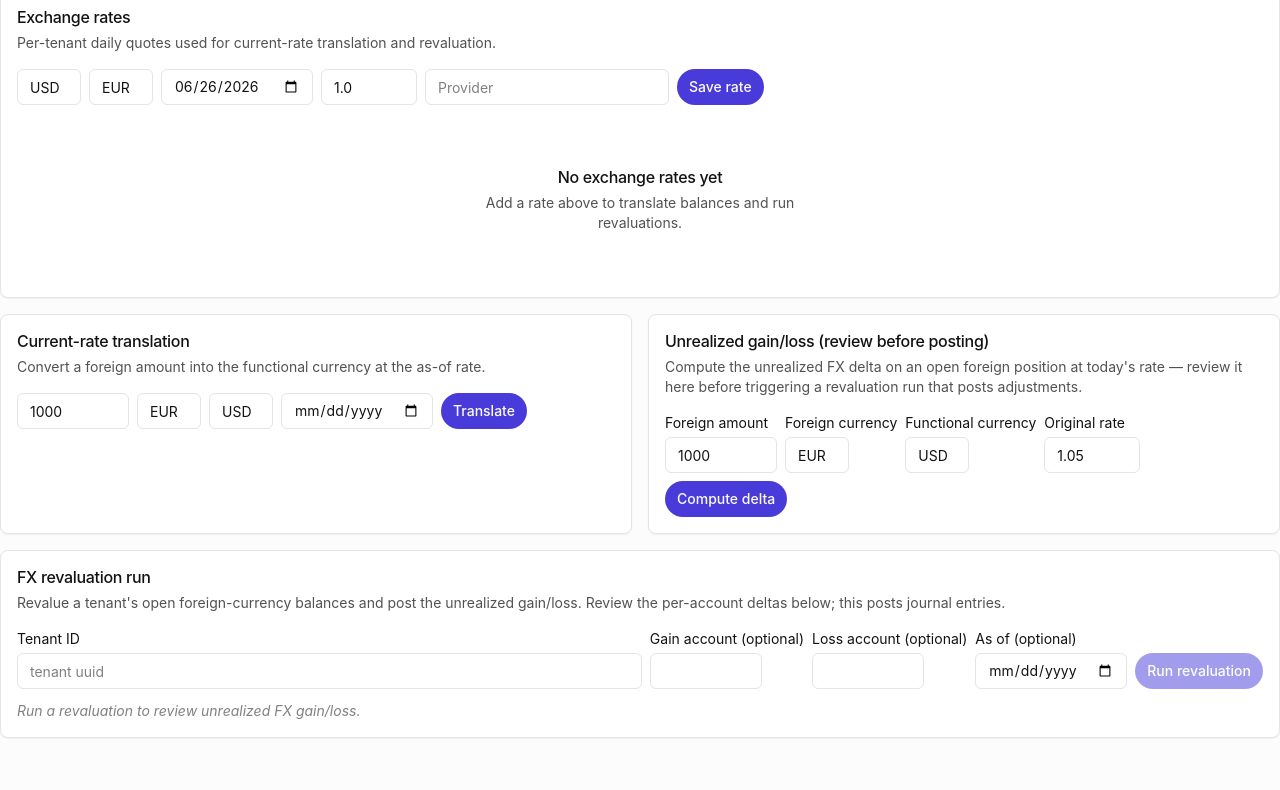
Scenario: FxReviewPanel › runs a revaluation and shows per-account lines, totals and skips
Step 1. Type "t1" into the field labelled "Tenant ID" → (329,671), box left=17, top=653, right=642, bottom=689
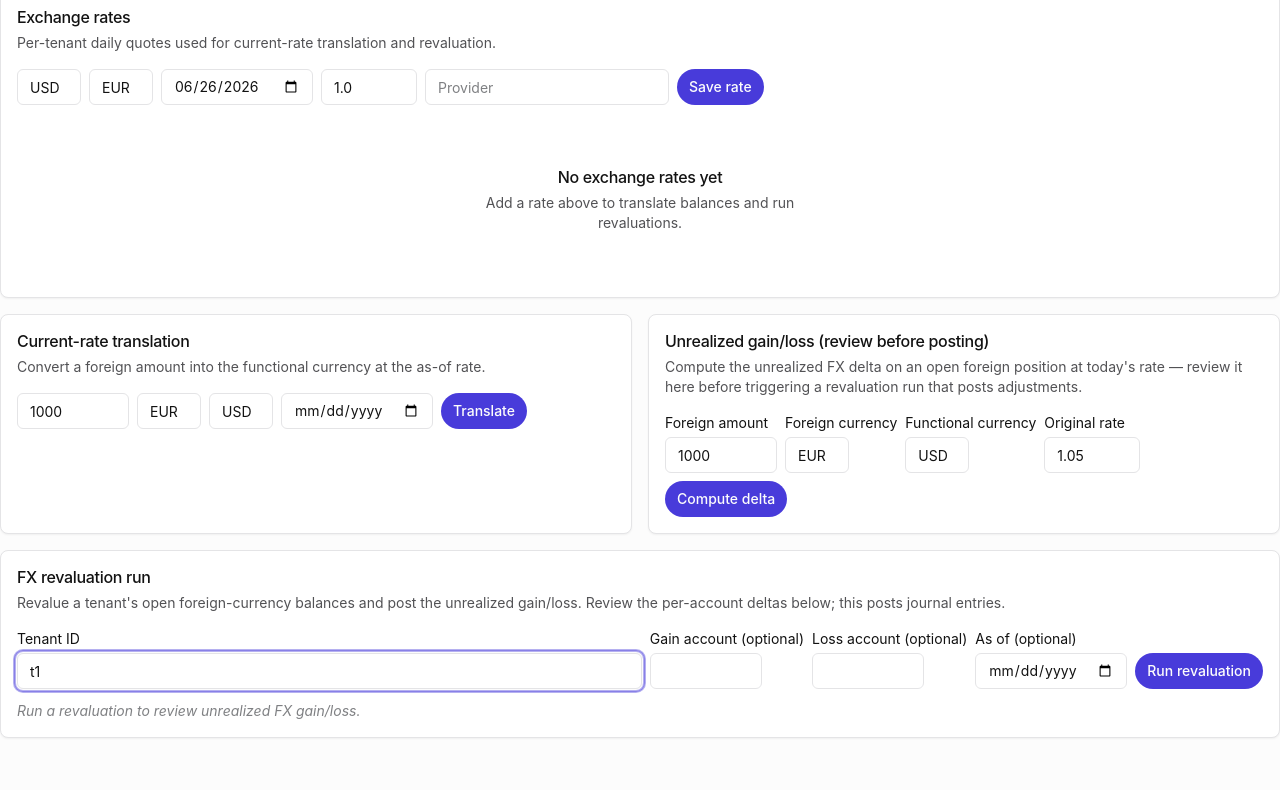
Step 2. Click the button "Run revaluation" → (1199,671), box left=1135, top=653, right=1263, bottom=689
(page scrolled)
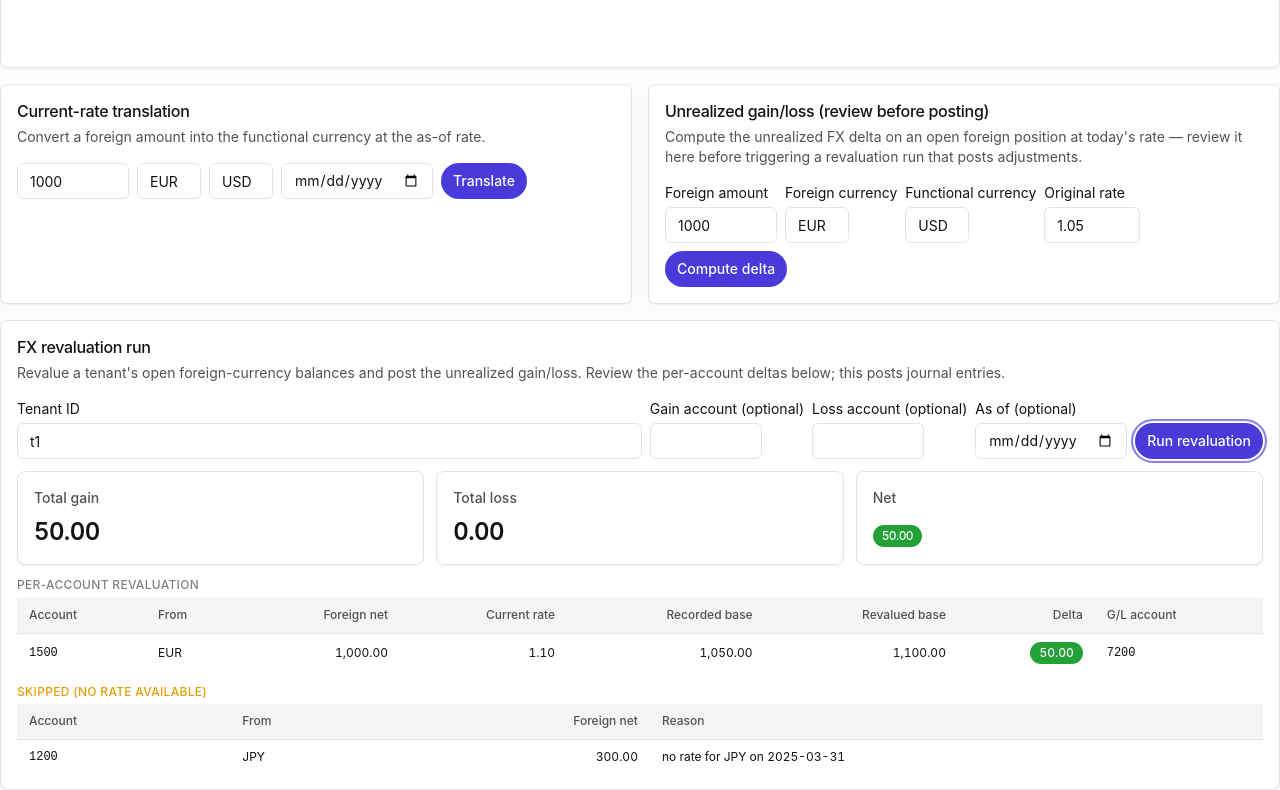
Expected: the text "1,100.00" is shown, left=765, top=633, right=958, bottom=672
Expected: the text "7200" is shown, left=1107, top=646, right=1136, bottom=660
Expected: the text "no rate for JPY on 2025-03-31" is shown, left=650, top=740, right=1263, bottom=773
